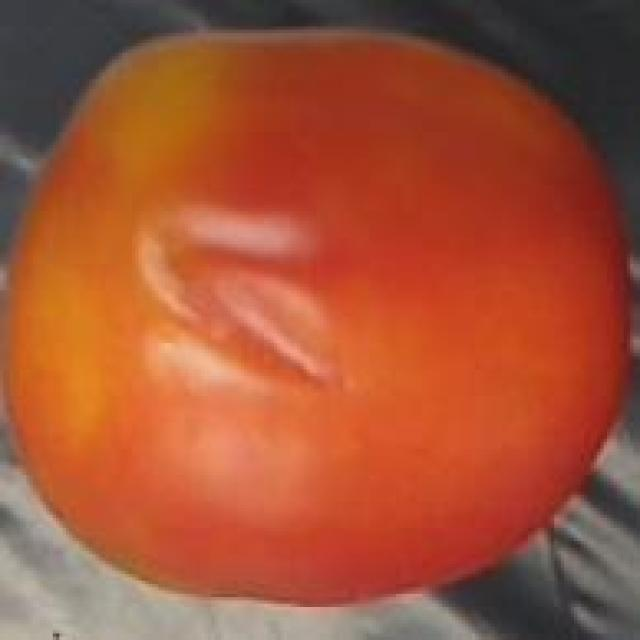overripe tomato: (0, 16, 637, 617)
